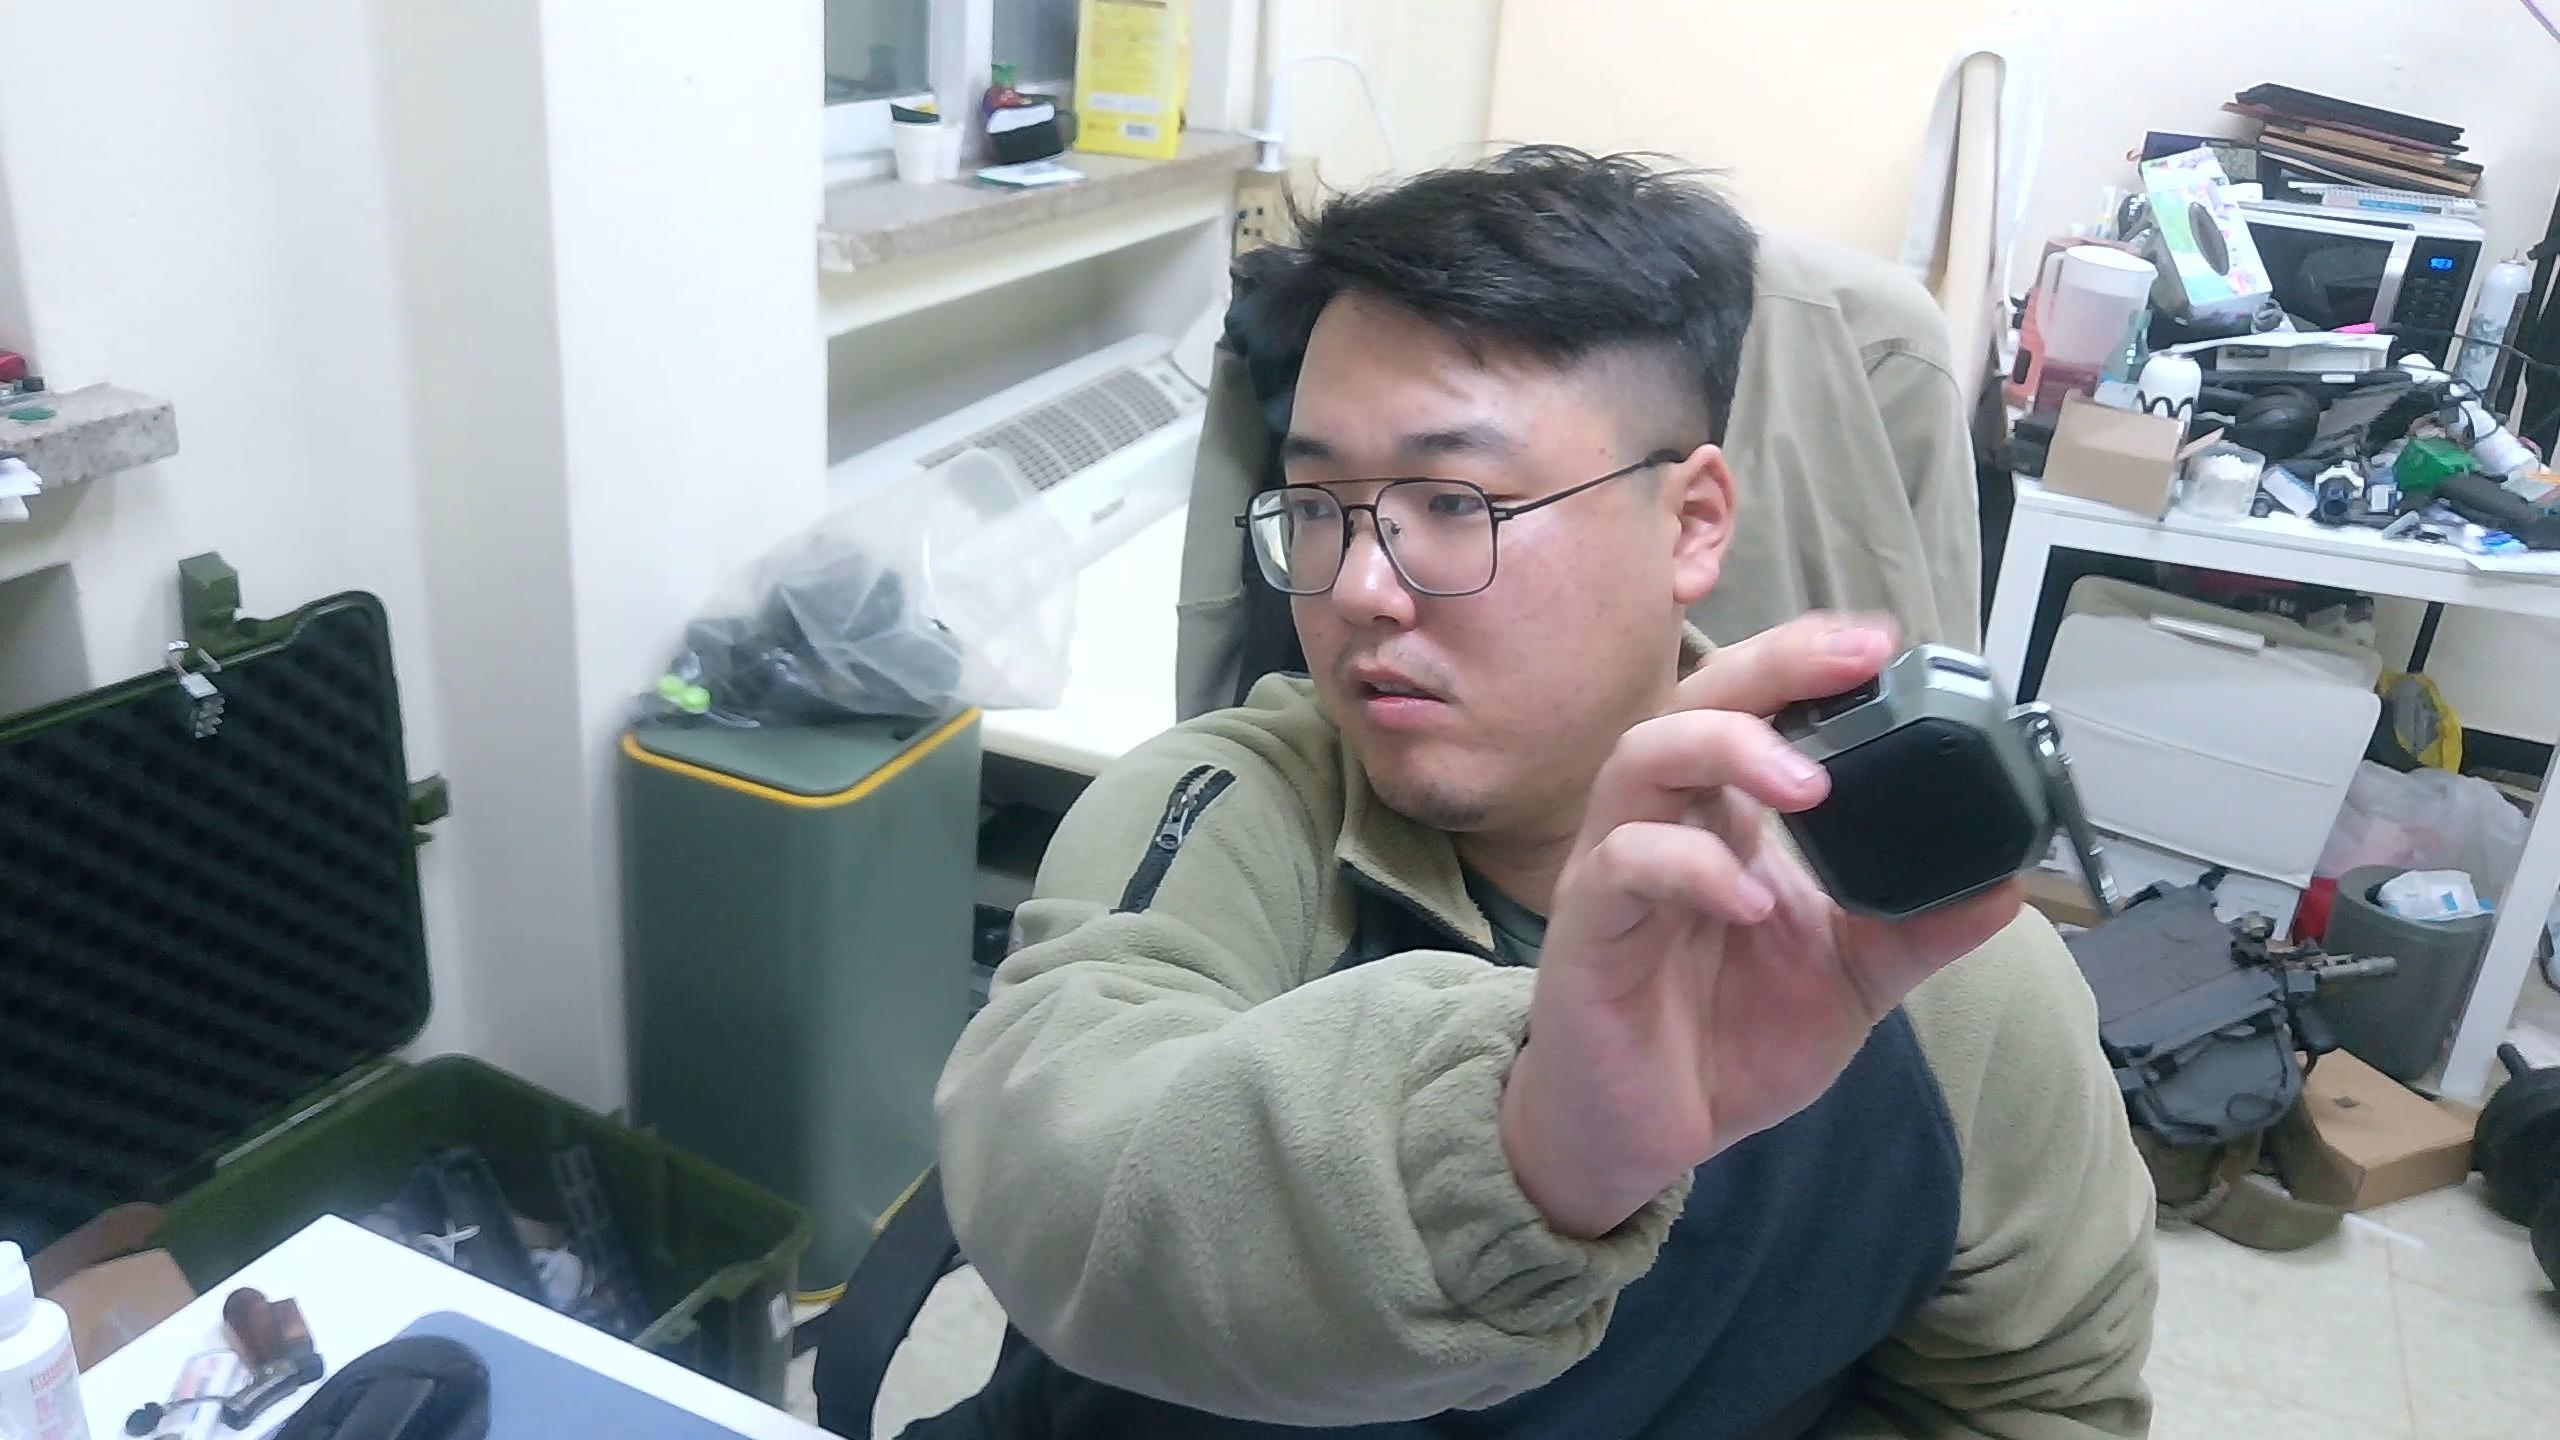blue_pliers: (1765, 638, 2059, 923)
